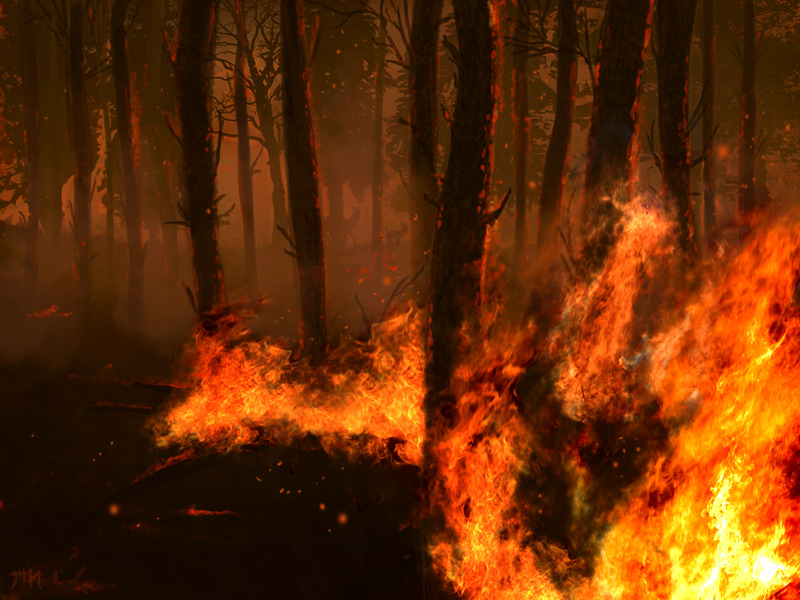fire: (464, 284, 788, 594)
